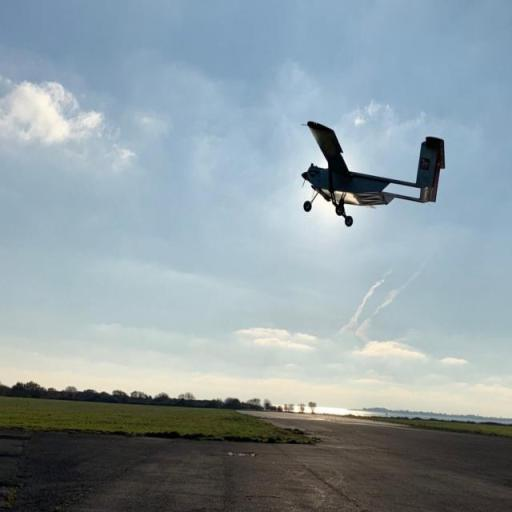uav: (272, 103, 460, 241)
